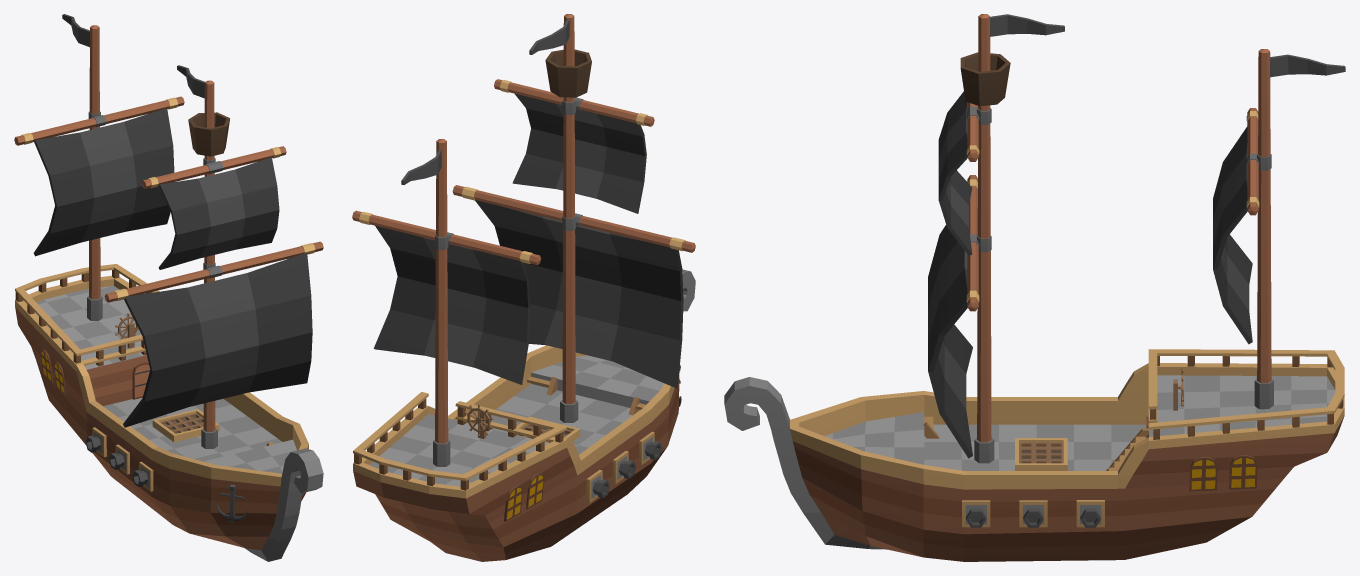
The model's file is galleon.glb.
3 views of the same model, side by side, from view 1: azimuth 30°, elevation 25°; view 2: azimuth 150°, elevation 25°; view 3: azimuth 270°, elevation 25° (orthographic). The views are drawn at different scales.
Visible parts, largest first — view 1: pirate ship large 1; view 2: pirate ship large 1; view 3: pirate ship large 1.
Part boxes in pixels (x1=…): pirate ship large 1: x1=14, y1=14, x2=323, y2=561; pirate ship large 1: x1=352, y1=14, x2=695, y2=561; pirate ship large 1: x1=724, y1=14, x2=1345, y2=561.
Bounding box in the file's own units: 15.89 × 30.61 × 32.34.
Materials: 1 (1 with a texture image).
